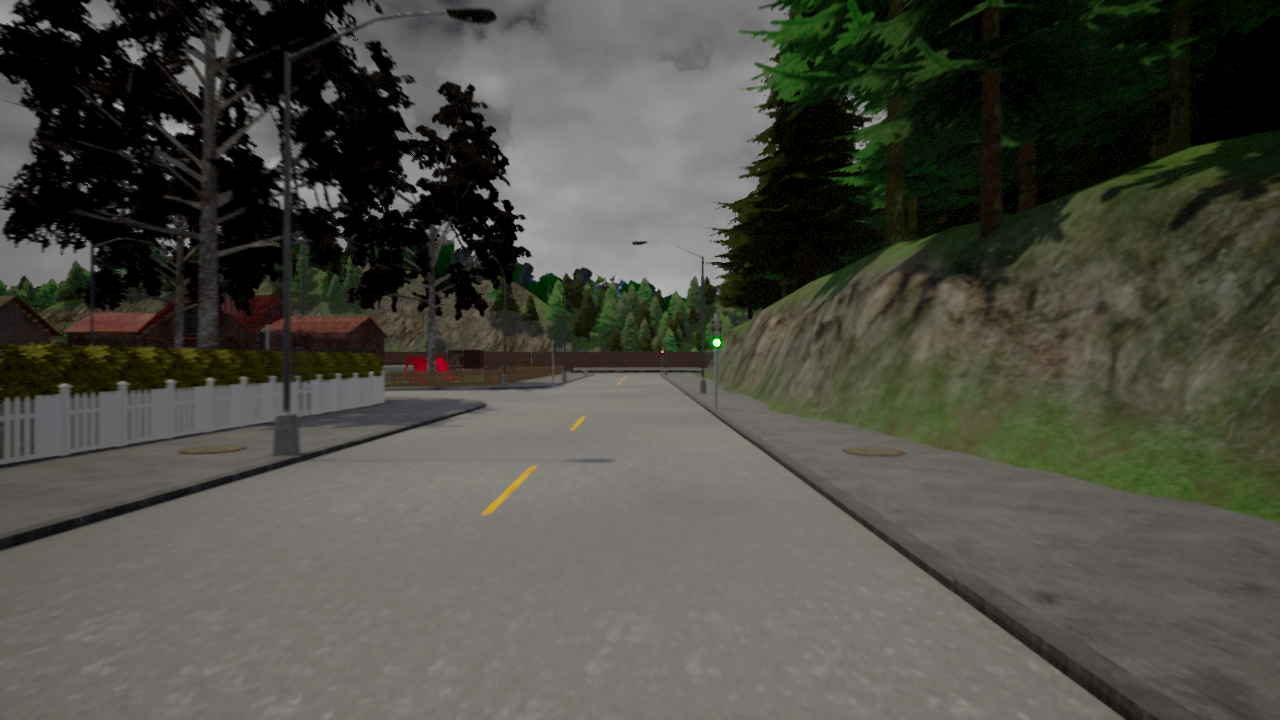green: (712, 320, 723, 348)
